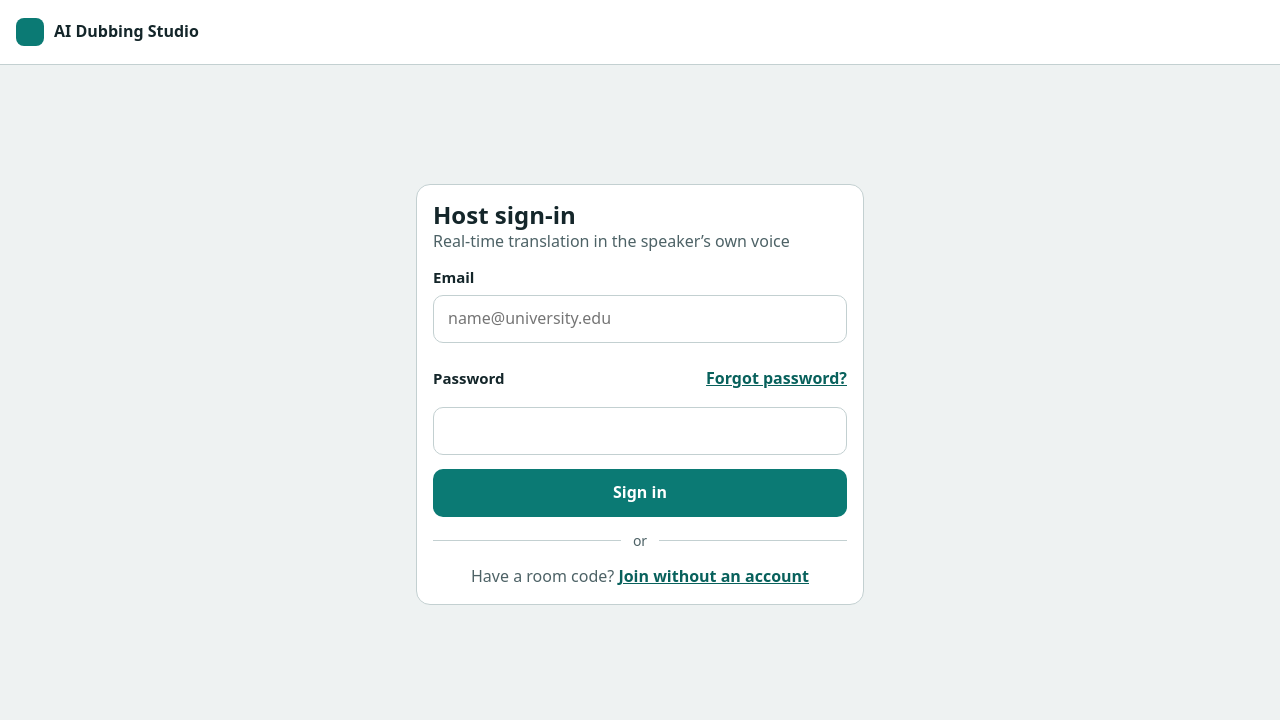
Test case: SignInPage › explains that password reset is unavailable
This screenshot has width=1280, height=720.
Click the button "Forgot password?".
click(777, 379)  # box [706,357,847,401]
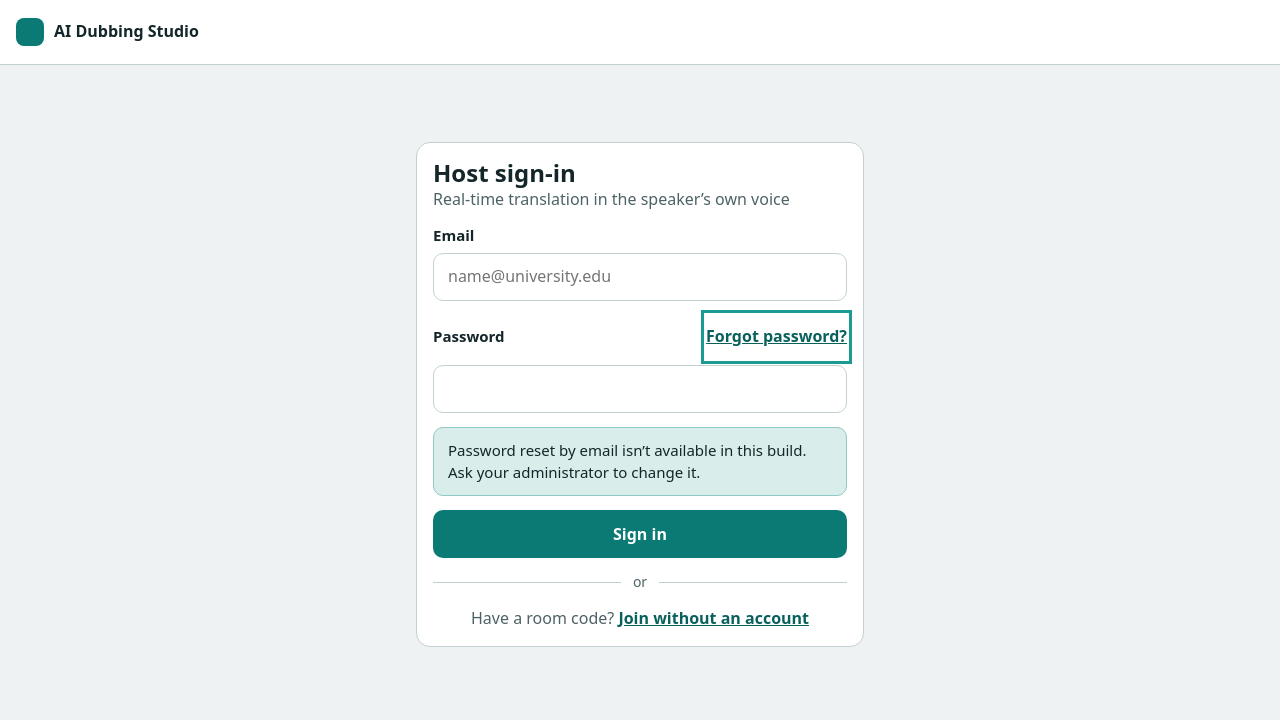
Now the message shows "administrator", box [448,440,806,482]
